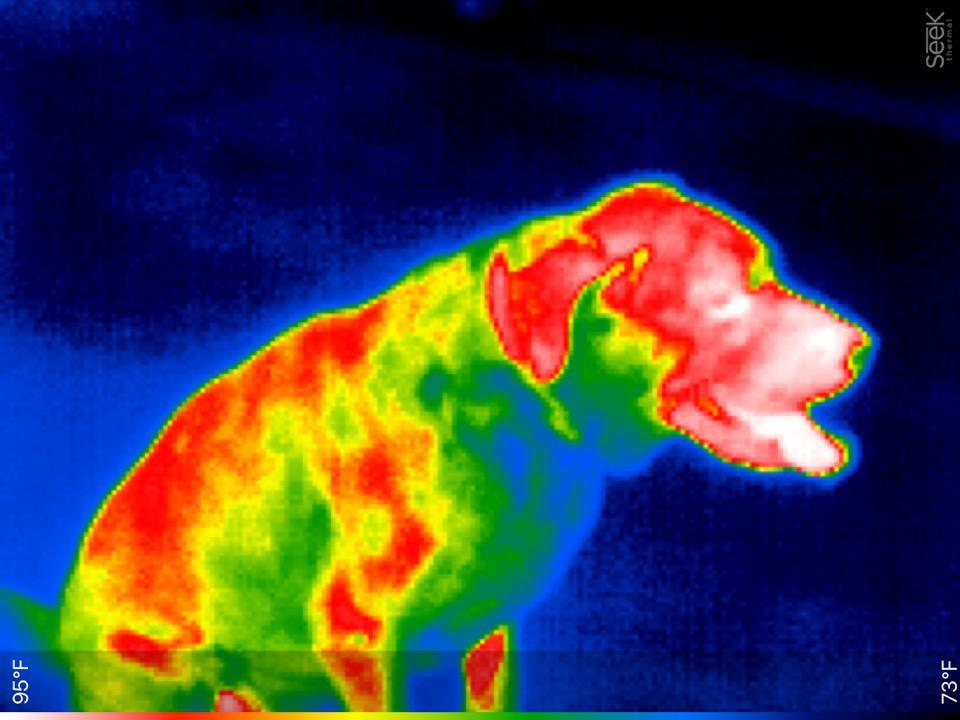dog: (40, 164, 879, 711)
